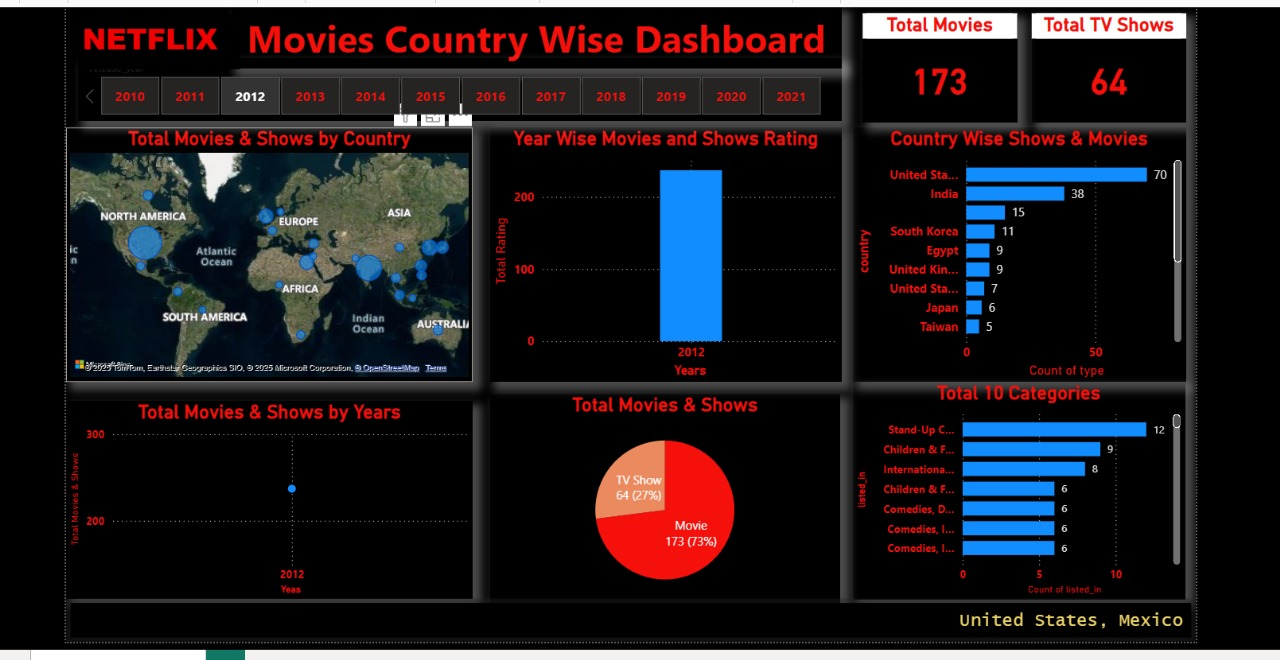

Layout of this report page (visuals, bound fields, positions):
{"tool":"powerbi","page":{"name":"netflix movie dash board","canvas":[1280,720],"ordinal":0},"visuals":[{"type":"textbox","box":[187.1,0,692.1,69.7],"z":1000},{"type":"map","title":"Total Movies & Shows by Country","fields":{"Category":["netflix_titles.country"],"Size":["netflix_titles.Total_Moves_Shows"]},"box":[0,136.4,460.9,288.4],"z":2000},{"type":"stackedAreaChart","title":"Total Movies & Shows by Years","fields":{"Category":["netflix_titles.release_year"],"Y":["netflix_titles.Total_Moves_Shows"]},"box":[0,446.3,461,225],"z":3000},{"type":"columnChart","title":"Year Wise Movies and Shows Rating","fields":{"Category":["netflix_titles.release_year"],"Y":["CountNonNull(netflix_titles.rating)"]},"box":[480.2,136.3,399.3,288.3],"z":4000},{"type":"pieChart","title":"Total Movies & Shows","fields":{"Y":["netflix_titles.Total_Moves_Shows"],"Category":["netflix_titles.type"]},"box":[480.6,439,397.4,239.7],"z":5000},{"type":"card","title":"Total Movies","fields":{"Values":["netflix_titles.Total_Movies"]},"box":[902.4,7.2,174.9,124.3],"z":6000},{"type":"card","title":"Total TV Shows","fields":{"Values":["netflix_titles.Total_TVShow"]},"box":[1094.2,7.2,174.9,124.3],"z":7000},{"type":"barChart","title":"Country Wise Shows & Movies ","fields":{"Category":["netflix_titles.country"],"Y":["CountNonNull(netflix_titles.type)"]},"box":[891.7,136.4,377.7,288.4],"z":8000},{"type":"barChart","title":"Total 10 Categories","fields":{"Category":["netflix_titles.listed_in"],"Y":["CountNonNull(netflix_titles.listed_in)"]},"box":[891.7,424.7,376.5,246.2],"z":9000},{"type":"ScrollingTextVisual1448795304508","fields":{"Measure Absolute":["netflix_titles.Total_Moves_Shows"],"Category":["netflix_titles.country"]},"box":[0,670.9,1280.2,49.5],"z":10000},{"type":"slicer","fields":{"Values":["netflix_titles.release_year"]},"box":[13.5,57.5,865.8,70.9],"z":11000},{"type":"textbox","box":[13.5,7.3,183.4,62.4],"z":11001}]}

Visuals, with their boxes in screenshot pixels (x1, y1, x2, y2):
textbox: rect(206, 0, 831, 60)
"Total Movies & Shows by Country" map: rect(37, 120, 453, 381)
"Total Movies & Shows by Years" stackedAreaChart: rect(37, 400, 453, 604)
"Year Wise Movies and Shows Rating" columnChart: rect(471, 120, 832, 381)
"Total Movies & Shows" pieChart: rect(471, 394, 830, 610)
"Total Movies" card: rect(852, 3, 1011, 116)
"Total TV Shows" card: rect(1026, 3, 1184, 116)
"Country Wise Shows & Movies " barChart: rect(843, 120, 1184, 381)
"Total 10 Categories" barChart: rect(843, 381, 1183, 603)
ScrollingTextVisual1448795304508 - netflix_titles.Total_Moves_Shows x netflix_titles.country: rect(37, 603, 1194, 648)
slicer - netflix_titles.release_year: rect(49, 49, 832, 113)
textbox: rect(49, 3, 215, 60)
